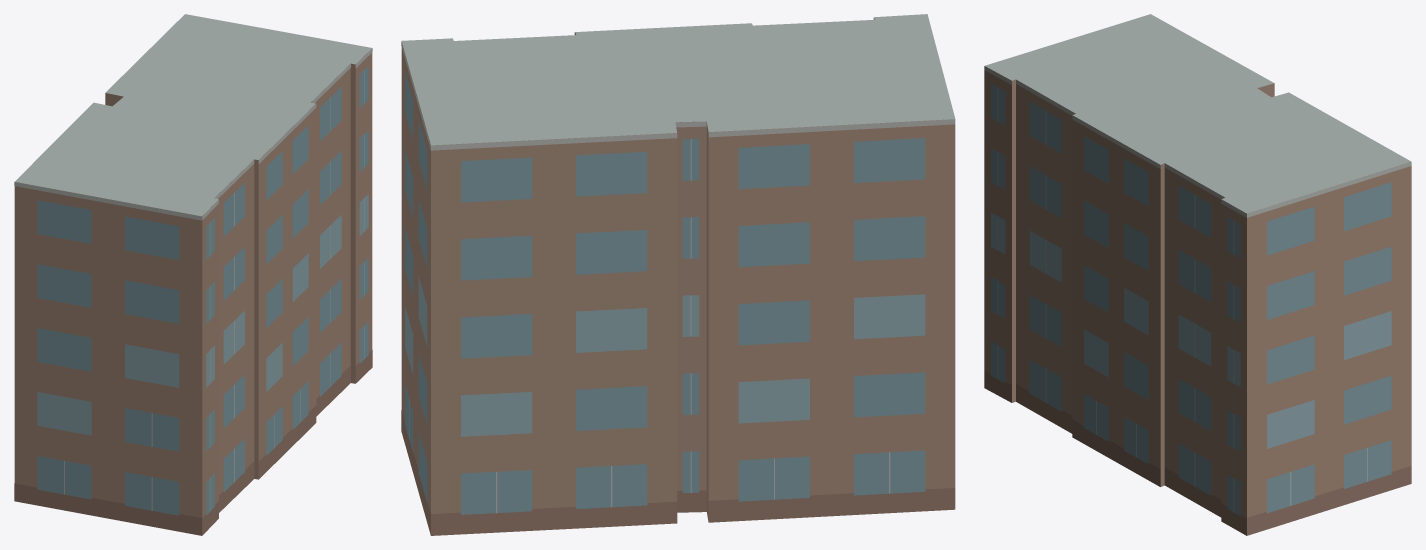
File: survey-upis-32721778.glb
3 renders of one model, left to right at view 1: azimuth 30°, elevation 25°; view 2: azimuth 150°, elevation 25°; view 3: azimuth 270°, elevation 25°, orthographic. The views are drawn at different scales.
Visible parts, largest first — view 1: survey-upis-32721778.tmp; view 2: survey-upis-32721778.tmp; view 3: survey-upis-32721778.tmp.
Part boxes in pixels (left/top/right/bottom): survey-upis-32721778.tmp: left=14, top=14, right=372, bottom=535; survey-upis-32721778.tmp: left=401, top=14, right=955, bottom=535; survey-upis-32721778.tmp: left=984, top=14, right=1411, bottom=535.
Bounding box in the file's own units: 24.32 × 18.3 × 21.99.
